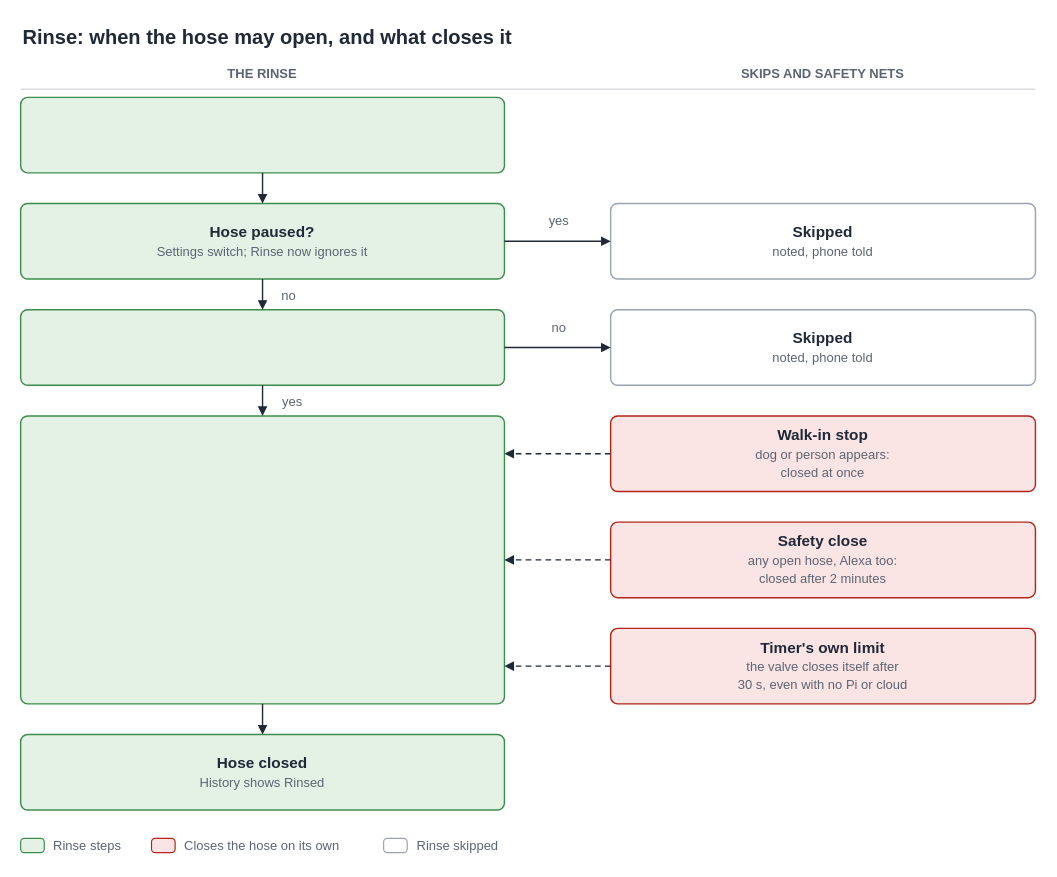
The diagram is 1057 pixels wide and 877 high, and some of its shapes have lost their labels. Here are the shapes that lost their labels. From the top down, the box of each, then its label:
(19, 96, 505, 173): Rinse asked model said clean, a Clean answer, or the Rinse now button
(19, 308, 505, 385): Patio clear? no dog, no person, no motion; waits up to 5 minutes
(19, 415, 505, 704): Hose open for the rinse length, 30 s; noted in History
